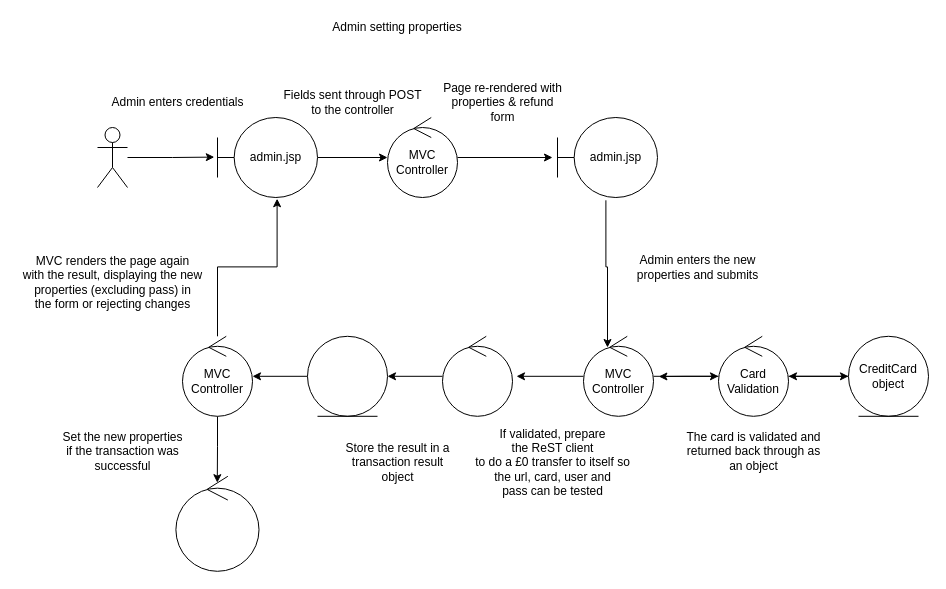
The diagram is 946 pixels wide and 589 high, and some of its shapes have lost their labels. Each missing label, with the centre of its shape:
Admin: [112,157]
propertiesDAO: [217,523]
RestClient: [477,375]
Transaction Result: [347,375]
